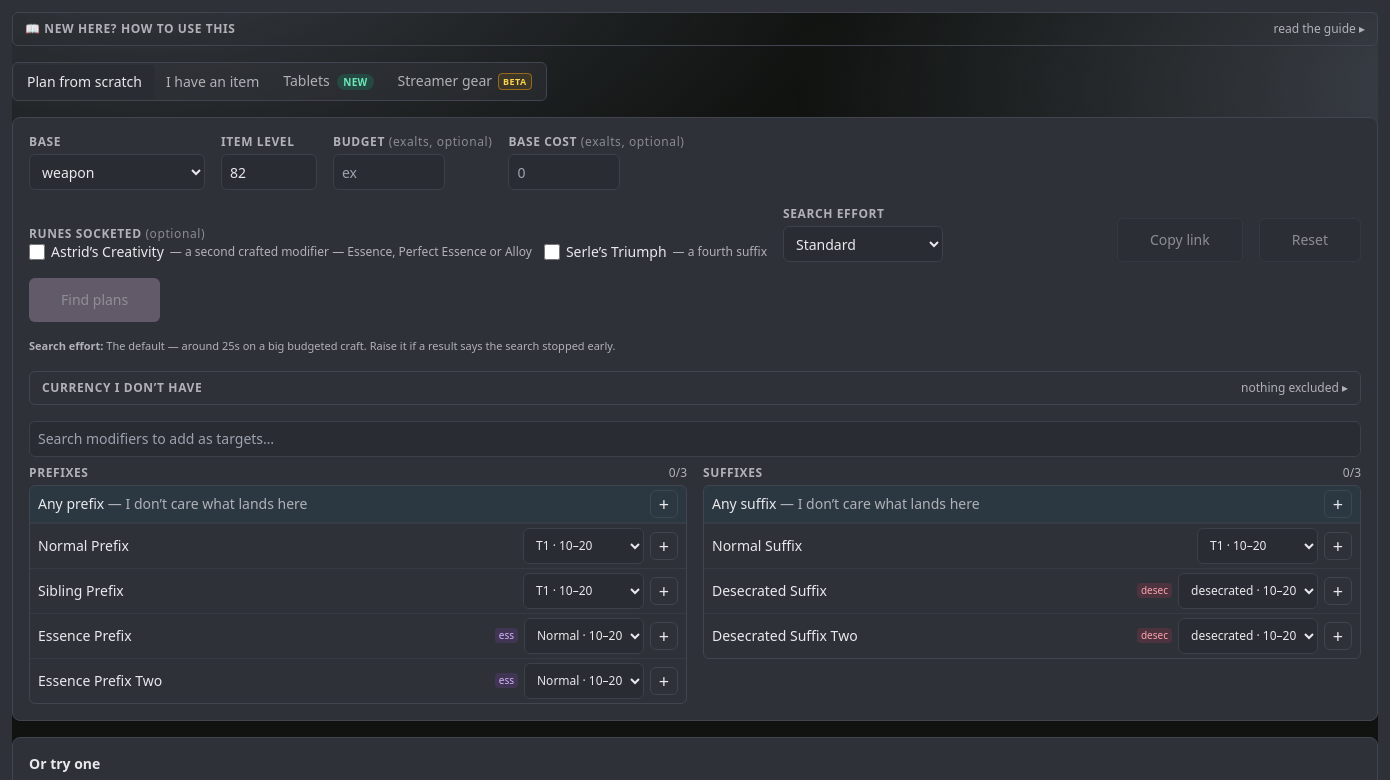
Scenario: EngineLab — target picker rules › at most one desecrated mod: a second desecrated disables in the picker
This screenshot has width=1390, height=780.
Check: the field with placeholder "Search modifiers to add as targets…" is shown, box [29,421,1361,457]
Click the 6th button "+" at coordinates (1338, 591), box [1324,577,1352,605]
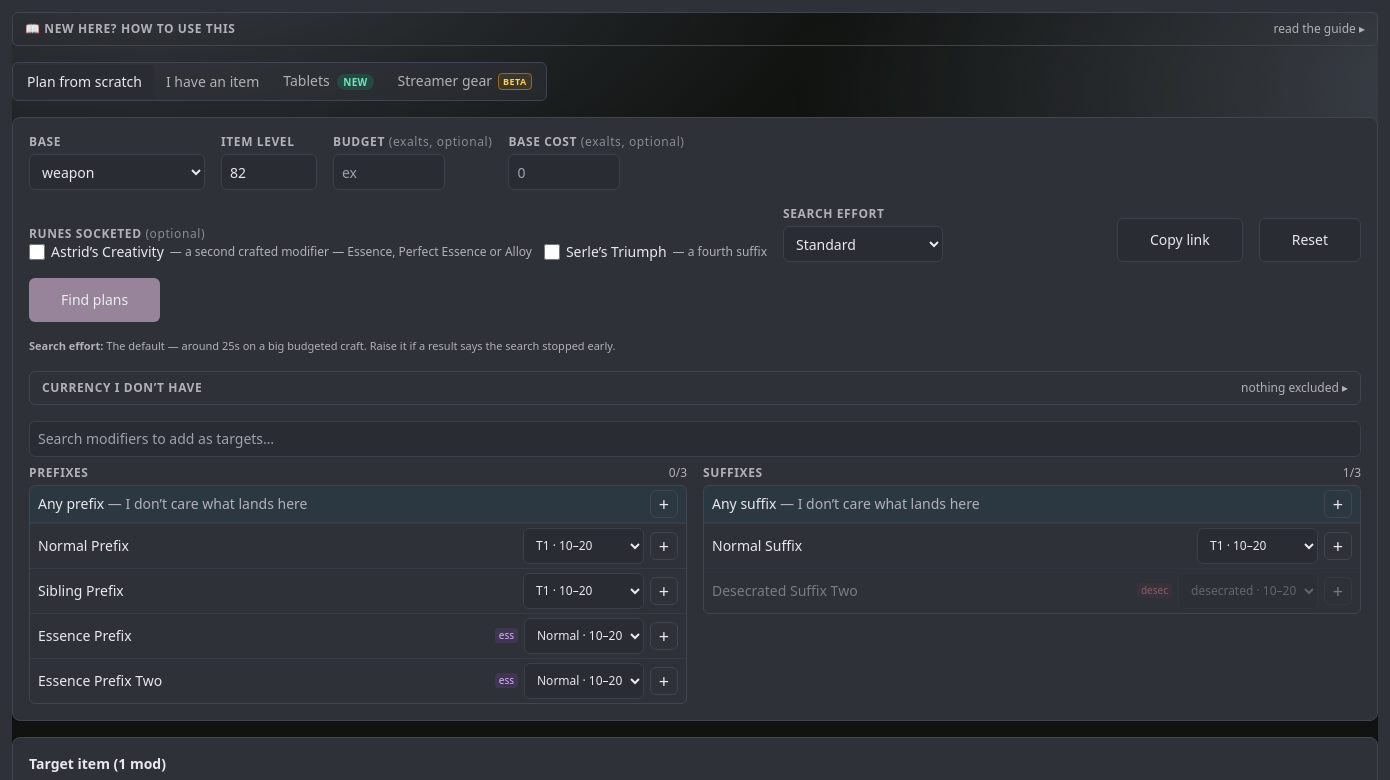
Check: the button "+" in the row of "Desecrated Suffix Two" is disabled, box [1324,577,1352,605]
